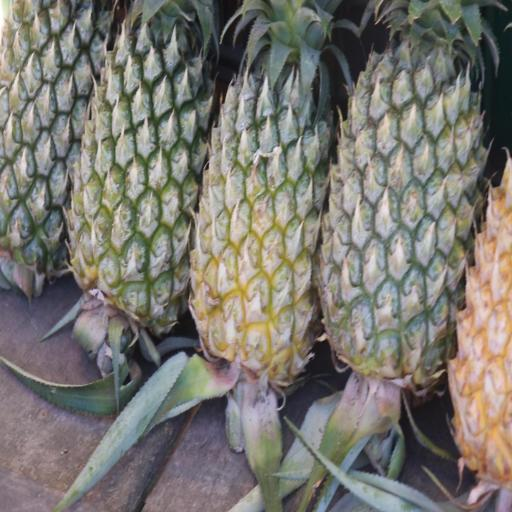------------------------------: (188, 0, 336, 393)
